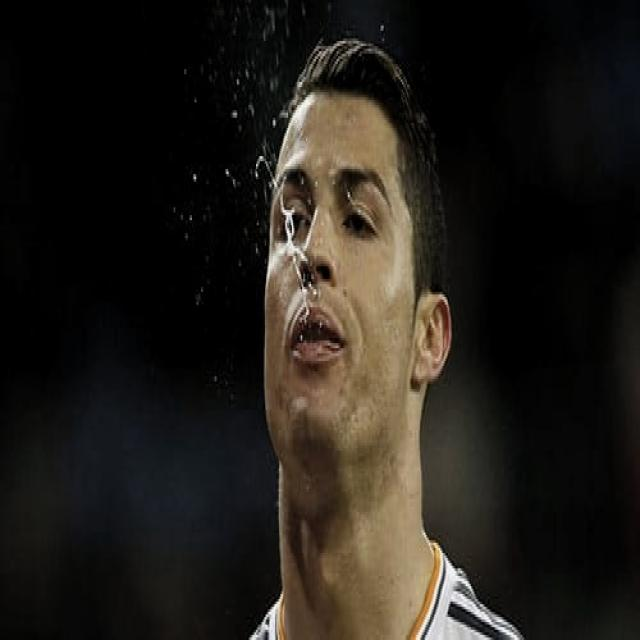Spitting: (243, 30, 452, 587)
